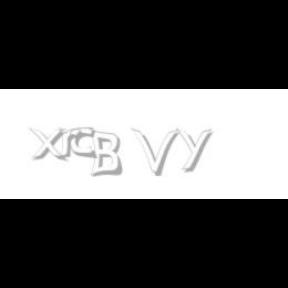B: (88, 128, 122, 178)
V: (131, 128, 179, 176)
c: (70, 128, 98, 160)
r: (58, 128, 86, 158)
x: (29, 128, 71, 162)
y: (176, 128, 216, 172)
